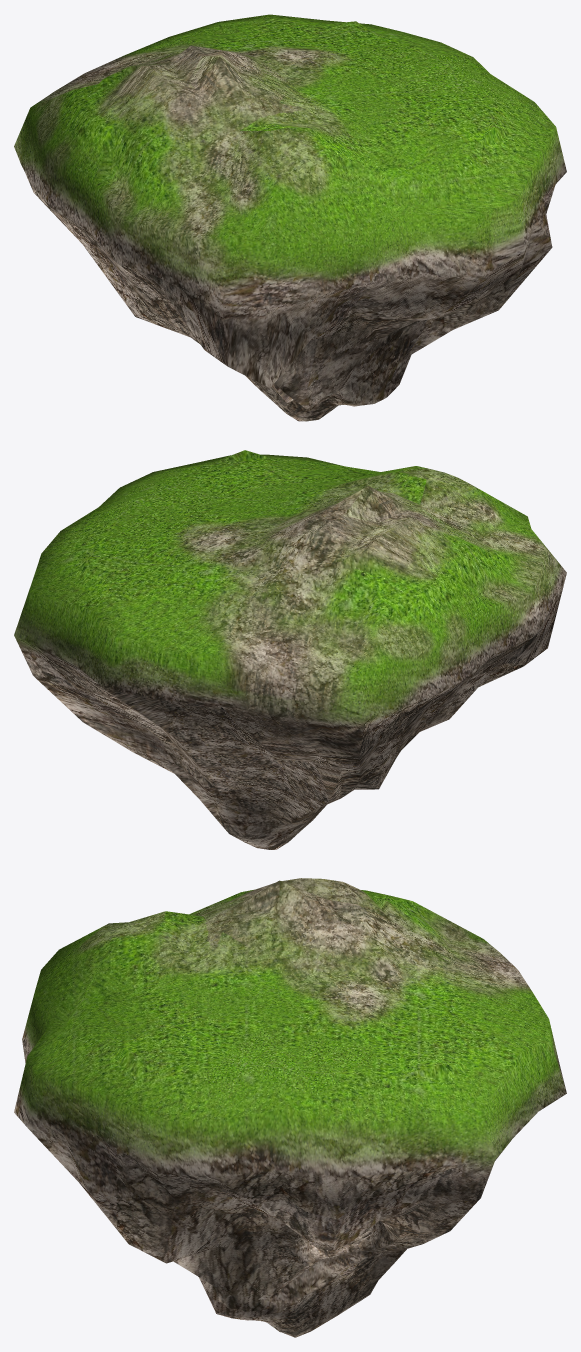
Rendered from floating_island_1.fbx.
3 views of the same model, one above another, from view 1: azimuth 30°, elevation 25°; view 2: azimuth 150°, elevation 25°; view 3: azimuth 270°, elevation 25° (orthographic). The views are drawn at different scales.
Visible parts, largest first — view 1: Cube; view 2: Cube; view 3: Cube.
Part boxes in pixels (box(x1,y1,x2,y2)): Cube: box(14, 14, 566, 421); Cube: box(14, 450, 566, 849); Cube: box(14, 878, 566, 1337).
Bounding box in the file's own units: 312 × 269 × 331.
Materials: 1 (1 with a texture image).
